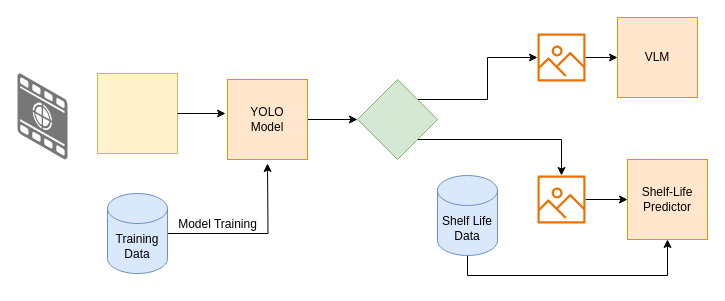
Image size: 725x301. Some labels were removed from this diagram. Here are the shapes that lost their labels. From the top down, the box of each, then its label:
(96, 72, 178, 154): Camera
(356, 78, 438, 160): Router
